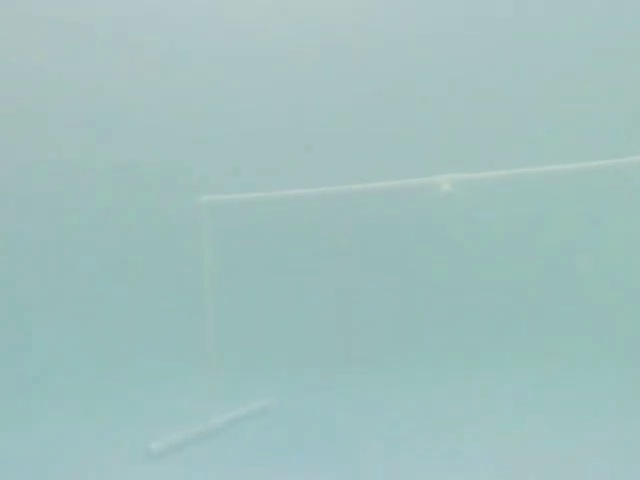gate: (132, 146, 640, 465)
